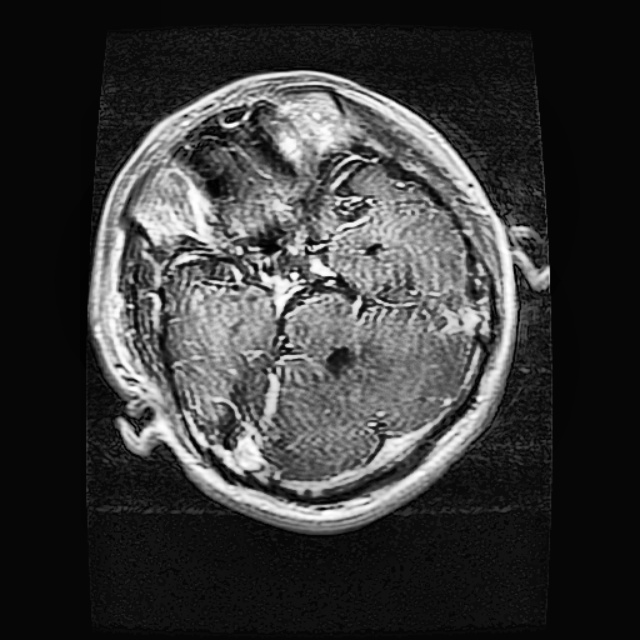Glioma: (240, 213, 299, 275)
